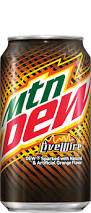can: (2, 33, 90, 210)
